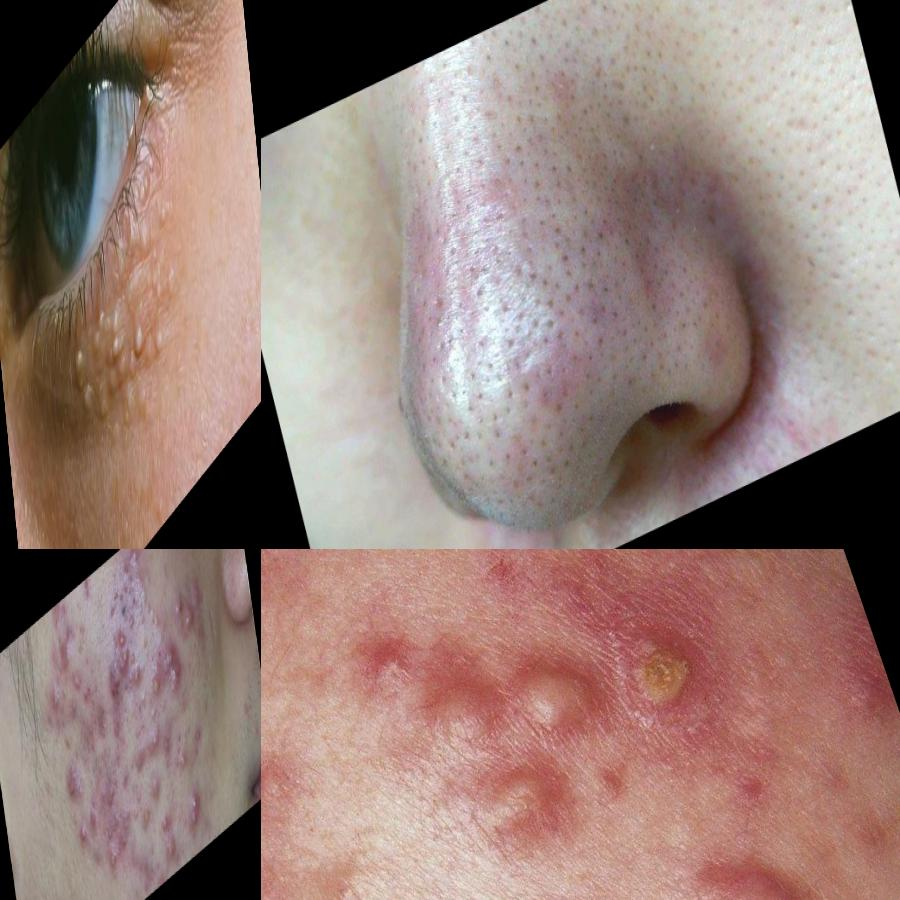blackhead: (588, 1, 683, 118), (488, 407, 583, 518), (413, 168, 501, 279), (513, 310, 601, 420), (538, 100, 628, 206), (415, 58, 497, 174), (442, 255, 521, 359), (638, 256, 716, 360), (485, 141, 553, 255), (454, 340, 526, 443), (484, 42, 556, 144), (545, 197, 616, 295), (392, 291, 456, 398), (606, 176, 669, 265), (508, 244, 570, 334), (584, 283, 645, 369), (417, 383, 475, 470), (138, 681, 150, 717)
cystic: (404, 628, 644, 878), (680, 838, 835, 900)
milium: (149, 222, 180, 319), (668, 188, 707, 257), (547, 61, 587, 119), (631, 126, 675, 173), (130, 309, 148, 376), (156, 185, 176, 234), (137, 164, 156, 212), (110, 309, 125, 366), (74, 341, 89, 383)
papular: (341, 646, 417, 723), (55, 601, 77, 669), (69, 662, 88, 703), (172, 592, 189, 626), (88, 798, 101, 834)
purulent: (173, 740, 191, 779), (108, 842, 122, 891), (165, 835, 180, 878), (50, 681, 64, 715), (131, 657, 145, 689), (153, 665, 164, 704), (159, 801, 171, 836), (117, 622, 129, 654), (143, 801, 154, 833), (150, 724, 162, 753)
sebo-crystan-conglo: (596, 583, 728, 772), (101, 769, 131, 844), (159, 631, 185, 710), (107, 651, 134, 710), (65, 754, 88, 818), (183, 783, 205, 837), (126, 550, 146, 581), (182, 605, 198, 642), (76, 820, 90, 852)
syringoma: (111, 208, 154, 297), (120, 361, 154, 455), (93, 361, 114, 436)
